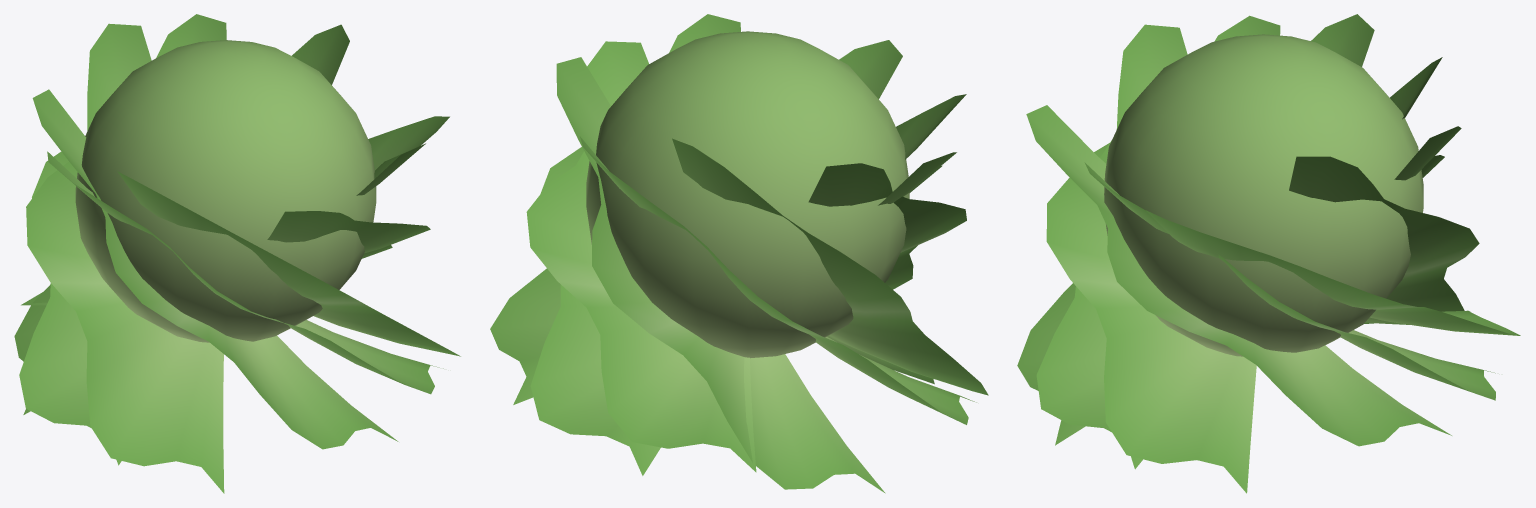
Rendered from Park_Cabbage.fbx.
The picture shows the model from 3 angles, left to right: view 1: azimuth 30°, elevation 25°; view 2: azimuth 150°, elevation 25°; view 3: azimuth 270°, elevation 25°; orthographic projection. The views are drawn at different scales.
Visible parts, largest first — view 1: Park_Cabbage; view 2: Park_Cabbage; view 3: Park_Cabbage.
Boxes of the visible parts, bbox=[...] form: Park_Cabbage: bbox=[14, 14, 460, 493]; Park_Cabbage: bbox=[490, 14, 988, 493]; Park_Cabbage: bbox=[1017, 14, 1520, 493].
Bounding box in the file's own units: 3.91 × 3.35 × 4.04.
